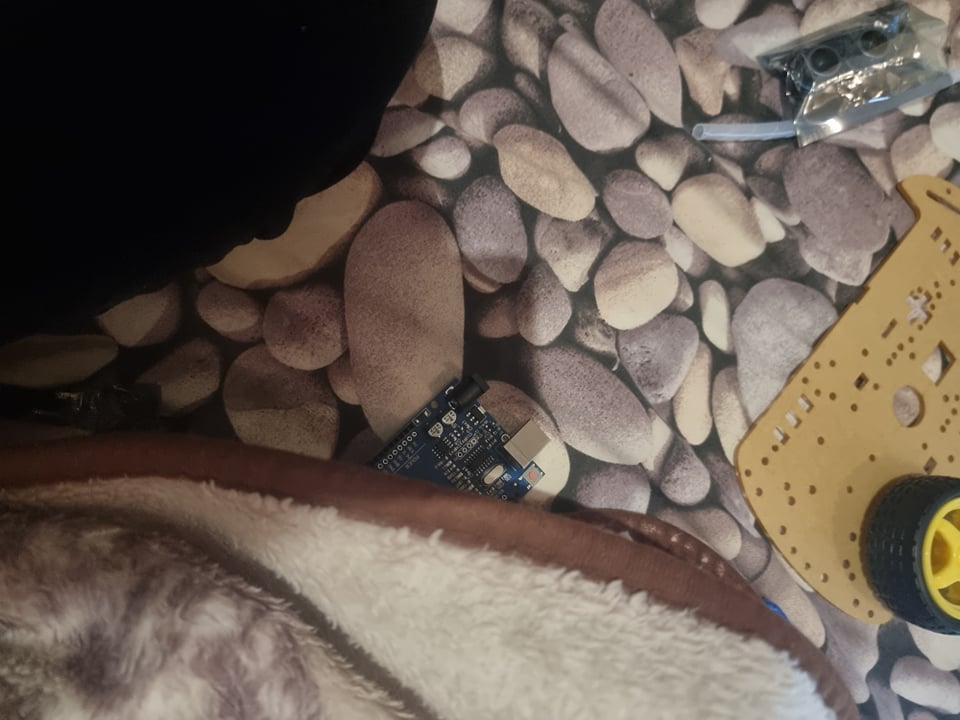5V EXPANSION: (364, 372, 548, 509)
SENSOR: (795, 23, 899, 93)
